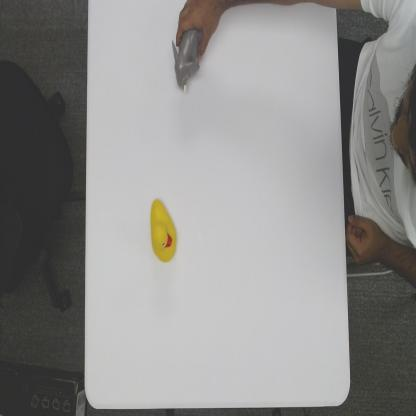Duck: (149, 198, 178, 264)
Elephant: (170, 30, 203, 94)
Hand: (174, 2, 231, 54)
